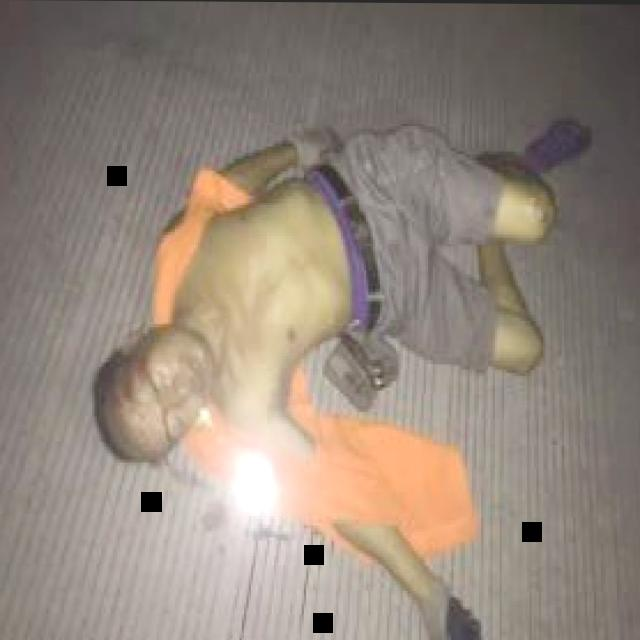Fall-Detected: (64, 67, 580, 640)
